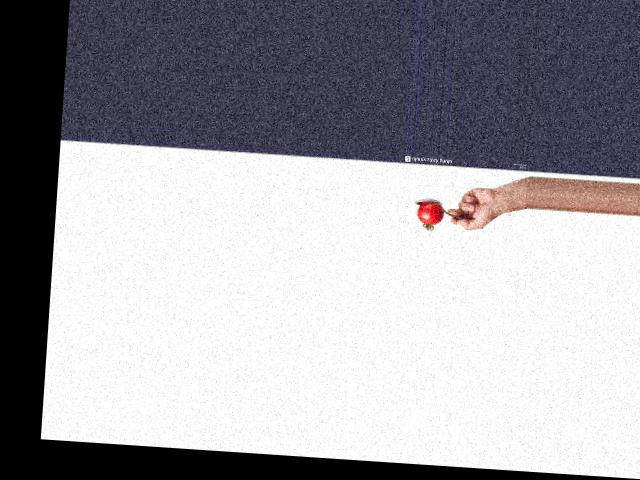tomato: (417, 201, 445, 226)
